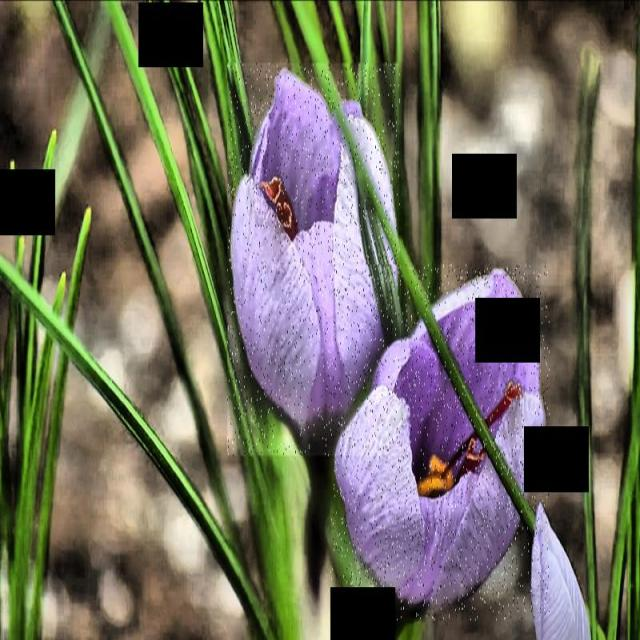Flower: (330, 264, 550, 620), (228, 63, 400, 456)
stigma: (442, 380, 524, 482), (276, 202, 299, 240), (260, 178, 290, 206)
